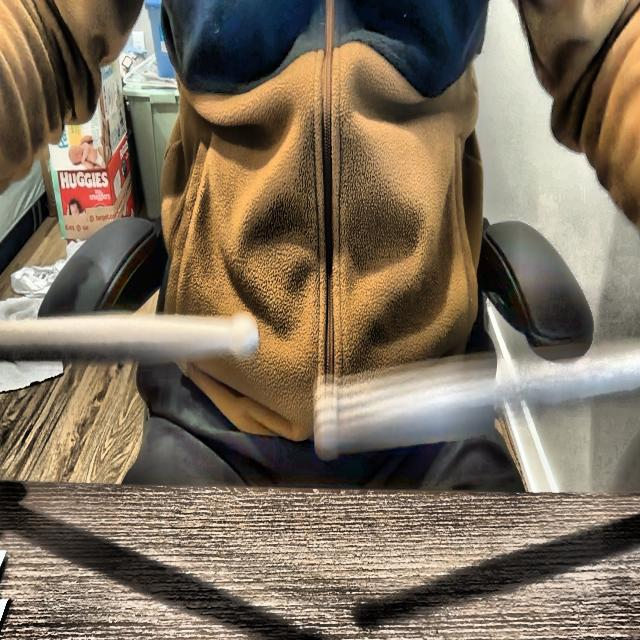Drumstick-Heads: (305, 370, 343, 459), (228, 305, 264, 370)
